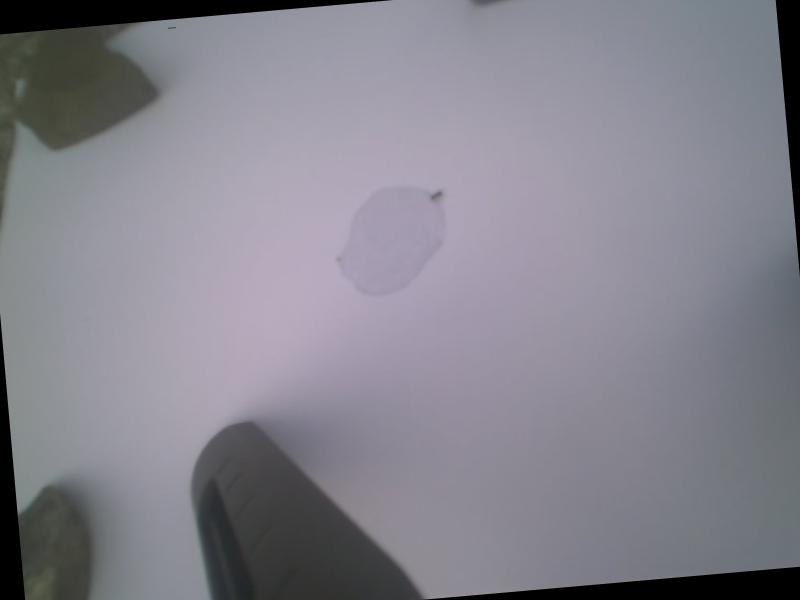Ant: (430, 190, 443, 201)
